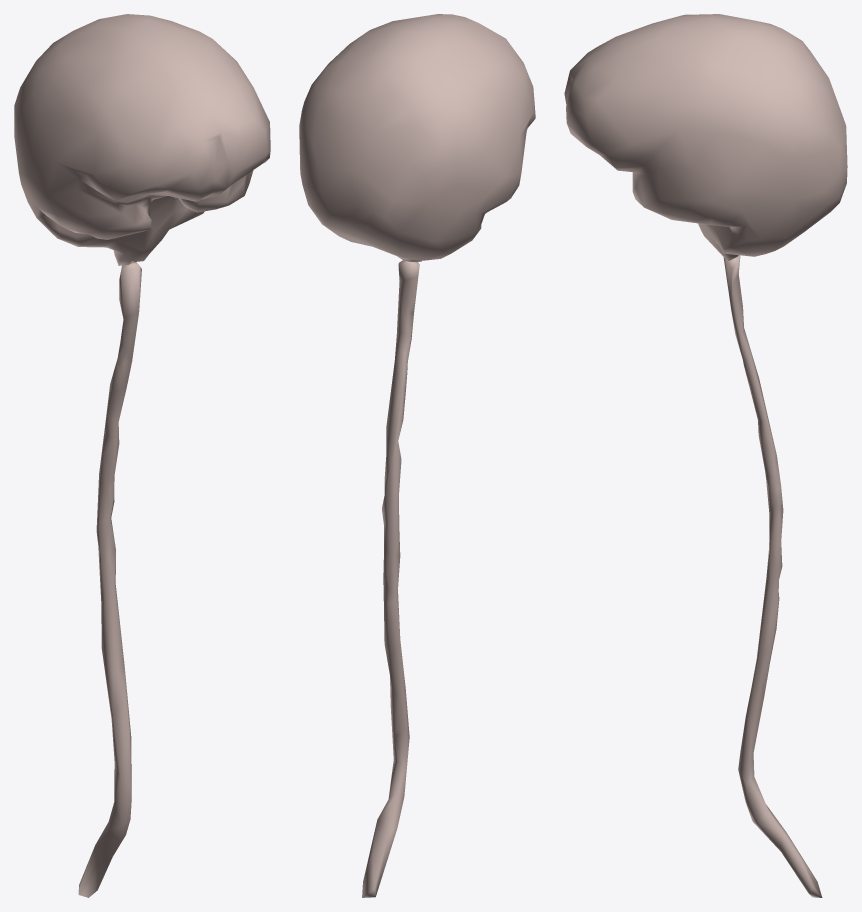
Rendered from pediatric_child_5y_female.nervous.LOD2.glb.
The picture shows the model from 3 angles, left to right: view 1: azimuth 30°, elevation 25°; view 2: azimuth 150°, elevation 25°; view 3: azimuth 270°, elevation 25°; orthographic projection. The views are drawn at different scales.
Parts seen in each view (by area): view 1: PEDIATRIC.CHILD_5Y.FEMALE.NERVOUS.BRAIN, PEDIATRIC.CHILD_5Y.FEMALE.NERVOUS.SPINAL_CORD; view 2: PEDIATRIC.CHILD_5Y.FEMALE.NERVOUS.BRAIN, PEDIATRIC.CHILD_5Y.FEMALE.NERVOUS.SPINAL_CORD; view 3: PEDIATRIC.CHILD_5Y.FEMALE.NERVOUS.BRAIN, PEDIATRIC.CHILD_5Y.FEMALE.NERVOUS.SPINAL_CORD.
Boxes of the visible parts, x1,y1,x2,y2 form: PEDIATRIC.CHILD_5Y.FEMALE.NERVOUS.BRAIN: (14,14,270,265); PEDIATRIC.CHILD_5Y.FEMALE.NERVOUS.SPINAL_CORD: (78,262,141,897); PEDIATRIC.CHILD_5Y.FEMALE.NERVOUS.BRAIN: (299,14,535,261); PEDIATRIC.CHILD_5Y.FEMALE.NERVOUS.SPINAL_CORD: (362,260,419,897); PEDIATRIC.CHILD_5Y.FEMALE.NERVOUS.BRAIN: (564,14,847,260); PEDIATRIC.CHILD_5Y.FEMALE.NERVOUS.SPINAL_CORD: (723,255,822,897).
Bounding box in the file's own units: 0.1261 × 0.5256 × 0.154.
